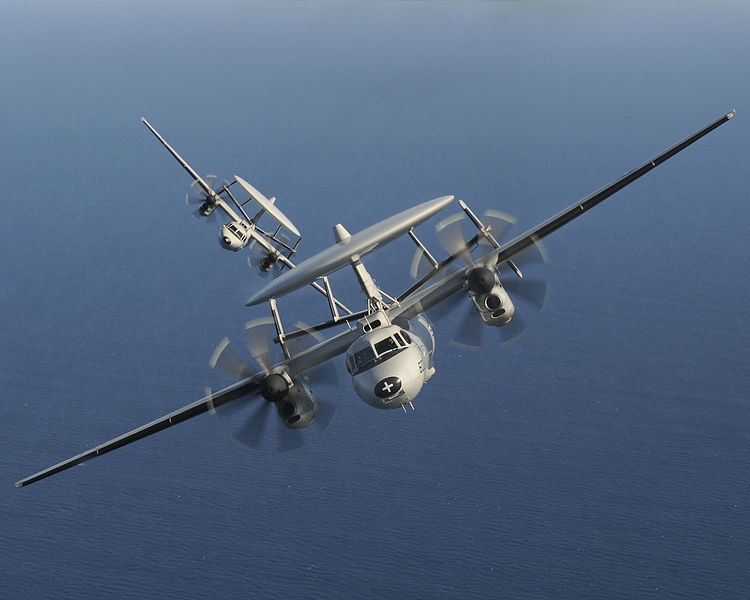E2: (13, 108, 736, 489), (139, 116, 354, 315)
